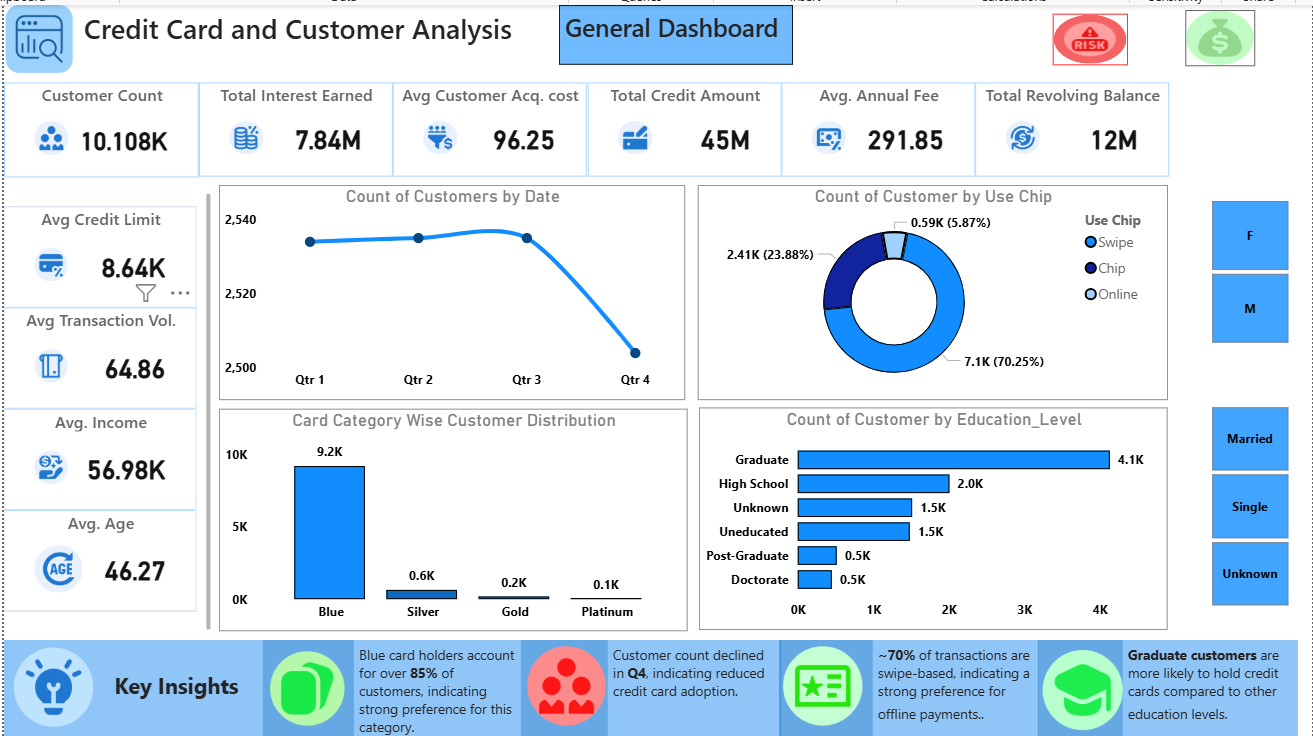

The dashboard page shown, as its layout file describes it:
{"tool":"powerbi","page":{"name":"Dashdoard","canvas":[1280,720],"ordinal":0},"visuals":[{"type":"textbox","box":[0,0,582.1,52.6],"z":0,"group":"g3"},{"type":"textbox","box":[922,0,358.3,58.7],"z":0,"group":"g2"},{"type":"cardVisual","title":"Customer Count","fields":{"Data":["Count(credit_card.Client_Num)"]},"box":[0,75.8,190.8,92.9],"z":0,"group":"g5"},{"type":"shape","box":[179.8,184.6,40.4,426.8],"z":0},{"type":"textbox","box":[0,620.9,253.3,99],"z":0,"group":"g7"},{"type":"textbox","box":[342.2,620.9,163.6,98.5],"z":0,"group":"g8"},{"type":"textbox","box":[590.3,620.9,170.3,99],"z":0,"group":"g9"},{"type":"textbox","box":[849.1,620.9,162.5,99],"z":0,"group":"g10"},{"type":"textbox","box":[1094.1,620.9,171.6,99],"z":0,"group":"g11"},{"type":"cardVisual","title":"Total Interest Earned","fields":{"Data":["Sum(credit_card.Interest_Earned)"]},"box":[190.8,75.8,189.5,91.7],"z":1000,"group":"g5"},{"type":"lineChart","title":"Count of Customers by Date","fields":{"Category":["credit_card.Week_Start_Date.Variation.Date Hierarchy.Year","credit_card.Week_Start_Date.Variation.Date Hierarchy.Quarter","credit_card.Week_Start_Date.Variation.Date Hierarchy.Month","credit_card.Week_Start_Date.Variation.Date Hierarchy.Day"],"Y":["Count(credit_card.Client_Num)"]},"box":[210.3,176.1,456.1,210.3],"z":1000,"group":"g1"},{"type":"columnChart","title":"Card Category Wise Customer Distribution ","fields":{"Category":["credit_card.Card_Category"],"Y":["CountNonNull(credit_card.Client_Num)"]},"box":[210.3,395,458.6,217.7],"z":1000},{"type":"image","box":[506,627,88,77.5],"z":1000,"group":"g9"},{"type":"image","box":[757.8,627,85,77.5],"z":1000,"group":"g10"},{"type":"image","box":[4.7,627.7,87.8,77.5],"z":1000,"group":"g7"},{"type":"image","box":[1011,630.4,87.6,78.3],"z":1000,"group":"g11"},{"type":"image","box":[253,632.1,87.7,72.9],"z":1000,"group":"g8"},{"type":"cardVisual","title":"Avg Customer Acq. cost","fields":{"Data":["Avg(credit_card.Customer_Acq_Cost)"]},"box":[380.3,75.8,189.5,91.7],"z":2000,"group":"g5"},{"type":"group","id":"g1","title":"Group 1","box":[210.3,176.1,456.1,210.3],"z":2000},{"type":"cardVisual","title":"Avg Credit Limit ","fields":{"Data":["Avg(credit_card.Credit_Limit)"]},"box":[0,196.9,188.3,99],"z":2000,"group":"g4"},{"type":"cardVisual","title":"Total Credit Amount ","fields":{"Data":["Sum(credit_card.Total_Trans_Amt)"]},"box":[571.1,75.8,189.5,91.7],"z":3000,"group":"g5"},{"type":"donutChart","title":"Count of Customer by Use Chip","fields":{"Y":["Count(credit_card.Client_Num)"],"Category":["credit_card.Use Chip"]},"box":[678.7,176.1,459.8,210.3],"z":3000},{"type":"cardVisual","title":"Total Revolving Balance","fields":{"Data":["Sum(credit_card.Total_Revolving_Bal)"]},"box":[950.1,75.8,189.5,91.7],"z":4000,"group":"g5"},{"type":"barChart","title":"Count of Customer by Education_Level","fields":{"Category":["customer.Education_Level"],"Y":["CountNonNull(credit_card.Client_Num)"]},"box":[679.9,393.8,458.6,217.7],"z":4000},{"type":"cardVisual","title":"Avg. Age","fields":{"Data":["Avg(customer.Customer_Age)"]},"box":[0,494,188.3,99],"z":4000,"group":"g4"},{"type":"slicer","fields":{"Values":["customer.Gender"]},"box":[1155.6,184.6,124.7,152.9],"z":5000},{"type":"cardVisual","title":"Avg Transaction Vol.","fields":{"Data":["Avg(credit_card.Total_Trans_Vol)"]},"box":[0,295.9,188.3,99],"z":6000,"group":"g4"},{"type":"slicer","fields":{"Values":["customer.Marital_Status"]},"box":[1155.6,386.4,124.7,207.9],"z":6000},{"type":"group","id":"g2","title":"Group 2","box":[922,0,358.3,58.7],"z":7000},{"type":"cardVisual","title":"Avg. Annual Fee","fields":{"Data":["Avg(credit_card.Annual_Fees)"]},"box":[760.6,75.8,189.5,91.7],"z":7000,"group":"g5"},{"type":"group","id":"g3","title":"Group 3","box":[0,0,582.1,66],"z":8000},{"type":"group","id":"g4","title":"Group 4","box":[0,196.9,188.3,396.2],"z":9000},{"type":"group","id":"g5","title":"Group 5","box":[0,75.8,1139.7,92.9],"z":10000},{"type":"cardVisual","title":"Avg. Income","fields":{"Data":["Avg(customer.Income)"]},"box":[0,395,188.3,99],"z":10000,"group":"g4"},{"type":"group","id":"g6","title":"Group 7","box":[0,620.9,1265.6,99],"z":11000},{"type":"actionButton","box":[1026,8.6,73.4,50.1],"z":12000},{"type":"actionButton","box":[1155.6,4.9,68.5,55],"z":13000},{"type":"textbox","box":[542.9,0,228.7,58.7],"z":13001},{"type":"group","id":"g7","title":"Group 6","box":[0,620.9,253,99],"z":14000,"group":"g6"},{"type":"group","id":"g8","title":"Group 6","box":[253,620.9,253,99],"z":15000,"group":"g6"},{"type":"group","id":"g9","title":"Group 6","box":[506,620.9,254.2,99],"z":16000,"group":"g6"},{"type":"group","id":"g10","title":"Group 6","box":[757.8,620.9,253,99],"z":17000,"group":"g6"},{"type":"group","id":"g11","title":"Group 6","box":[1011,620.9,254.6,99],"z":18000,"group":"g6"},{"type":"image","box":[0,0,68.5,66],"z":20002,"group":"g3"}]}

Visuals, with their boxes on the page's 1280x720 design canvas (x1, y1, x2, y2). These are canvas units, not pixel positions in the 1313x736 screenshot, which may show the page scaled, cropped or inside an application window:
textbox: [0, 0, 582, 53]
textbox: [922, 0, 1280, 59]
"Customer Count" cardVisual: [0, 76, 191, 169]
shape: [180, 185, 220, 611]
textbox: [0, 621, 253, 720]
textbox: [342, 621, 506, 719]
textbox: [590, 621, 761, 720]
textbox: [849, 621, 1012, 720]
textbox: [1094, 621, 1266, 720]
"Total Interest Earned" cardVisual: [191, 76, 380, 168]
"Count of Customers by Date" lineChart: [210, 176, 666, 386]
"Card Category Wise Customer Distribution " columnChart: [210, 395, 669, 613]
image: [506, 627, 594, 704]
image: [758, 627, 843, 704]
image: [5, 628, 92, 705]
image: [1011, 630, 1099, 709]
image: [253, 632, 341, 705]
"Avg Customer Acq. cost" cardVisual: [380, 76, 570, 168]
"Group 1" group: [210, 176, 666, 386]
"Avg Credit Limit " cardVisual: [0, 197, 188, 296]
"Total Credit Amount " cardVisual: [571, 76, 761, 168]
"Count of Customer by Use Chip" donutChart: [679, 176, 1138, 386]
"Total Revolving Balance" cardVisual: [950, 76, 1140, 168]
"Count of Customer by Education_Level" barChart: [680, 394, 1138, 612]
"Avg. Age" cardVisual: [0, 494, 188, 593]
slicer - customer.Gender: [1156, 185, 1280, 338]
"Avg Transaction Vol." cardVisual: [0, 296, 188, 395]
slicer - customer.Marital_Status: [1156, 386, 1280, 594]
"Group 2" group: [922, 0, 1280, 59]
"Avg. Annual Fee" cardVisual: [761, 76, 950, 168]
"Group 3" group: [0, 0, 582, 66]
"Group 4" group: [0, 197, 188, 593]
"Group 5" group: [0, 76, 1140, 169]
"Avg. Income" cardVisual: [0, 395, 188, 494]
"Group 7" group: [0, 621, 1266, 720]
actionButton: [1026, 9, 1099, 59]
actionButton: [1156, 5, 1224, 60]
textbox: [543, 0, 772, 59]
"Group 6" group: [0, 621, 253, 720]
"Group 6" group: [253, 621, 506, 720]
"Group 6" group: [506, 621, 760, 720]
"Group 6" group: [758, 621, 1011, 720]
"Group 6" group: [1011, 621, 1266, 720]
image: [0, 0, 68, 66]
